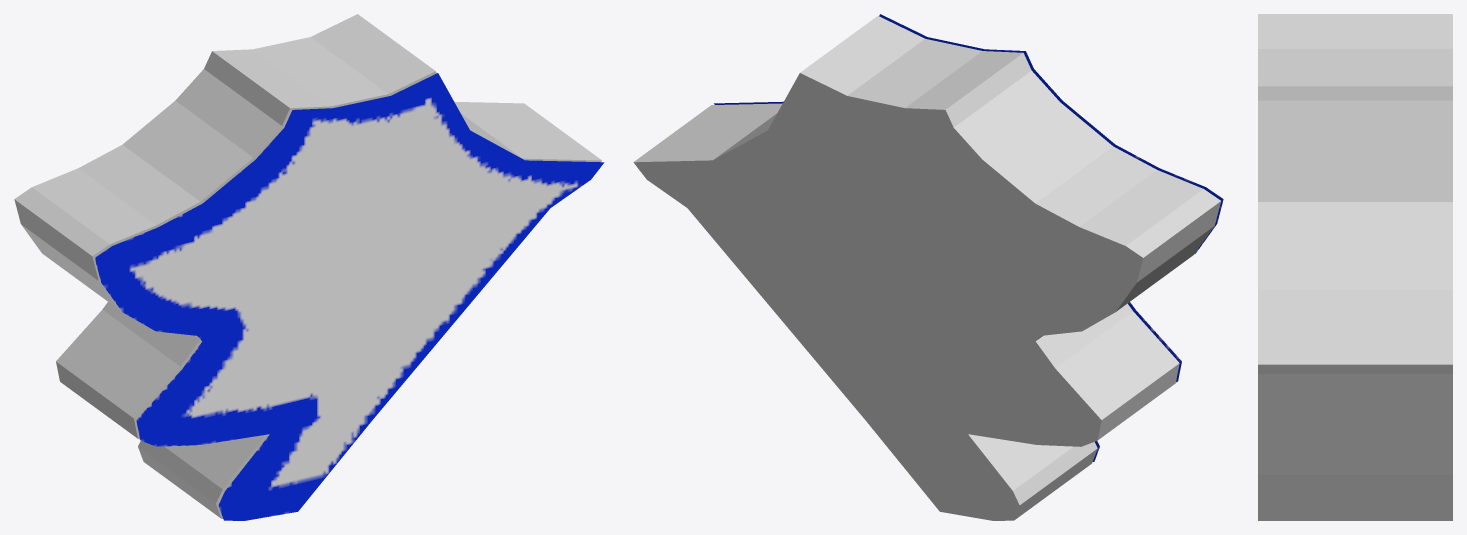
The picture shows the model from 3 angles, left to right: view 1: azimuth 30°, elevation 25°; view 2: azimuth 150°, elevation 25°; view 3: azimuth 270°, elevation 25°; orthographic projection. The views are drawn at different scales.
Parts seen in each view (by area): view 1: In_3_1, In_3_0; view 2: In_3_0, In_3_1; view 3: In_3_0.
Part boxes in pixels (box(x1,y1,x2,y2)): In_3_1: box(94, 73, 604, 520); In_3_0: box(14, 14, 601, 518); In_3_0: box(633, 16, 1221, 520); In_3_1: box(714, 14, 1223, 461); In_3_0: box(1258, 14, 1452, 520).
Size of the model in its own units: 1.89 by 1.43 by 0.515.
Materials: 2 (1 with a texture image).
